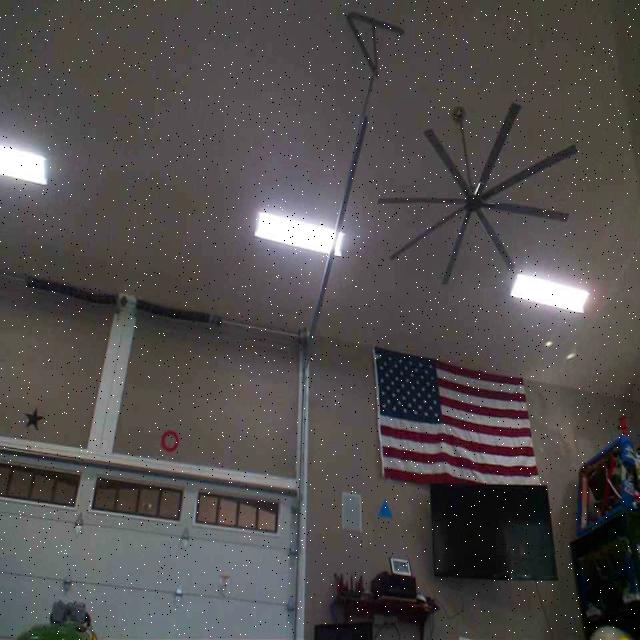ring_red: (161, 430, 178, 451)
star_black: (23, 405, 44, 431)
triangle_blue: (376, 496, 393, 519)
